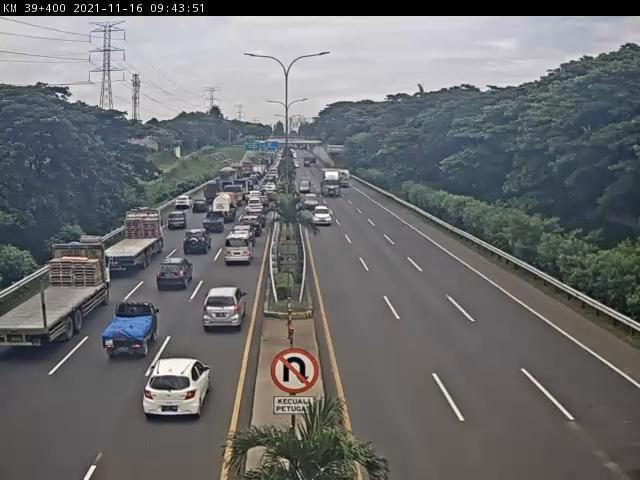car: (144, 359, 214, 421), (107, 302, 160, 361), (206, 287, 249, 331), (154, 262, 192, 293), (224, 236, 254, 266), (182, 232, 212, 259), (203, 211, 227, 236), (231, 227, 255, 252), (241, 216, 263, 236), (168, 214, 188, 232), (313, 206, 331, 225), (249, 209, 269, 225), (191, 200, 208, 216), (247, 200, 265, 214), (304, 194, 318, 209), (176, 197, 192, 210), (249, 193, 265, 202), (301, 180, 310, 192)
truck: (1, 245, 107, 353), (102, 210, 165, 272), (214, 195, 237, 225), (321, 170, 341, 196), (218, 168, 238, 191), (201, 183, 222, 204), (226, 185, 245, 206)
